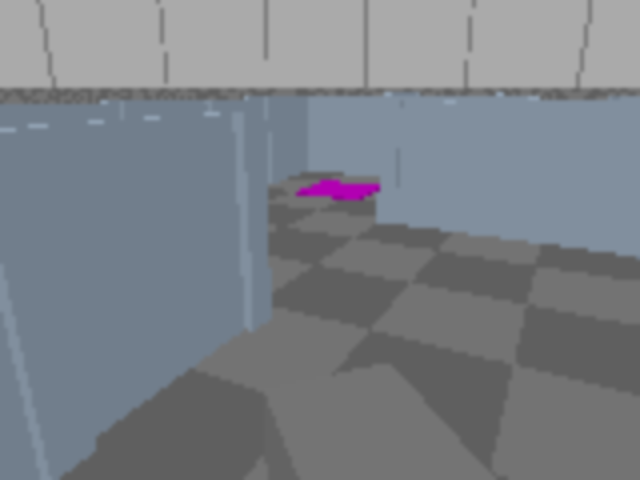goal_zone: (293, 181, 384, 201)
obstacle: (263, 362, 496, 478)
